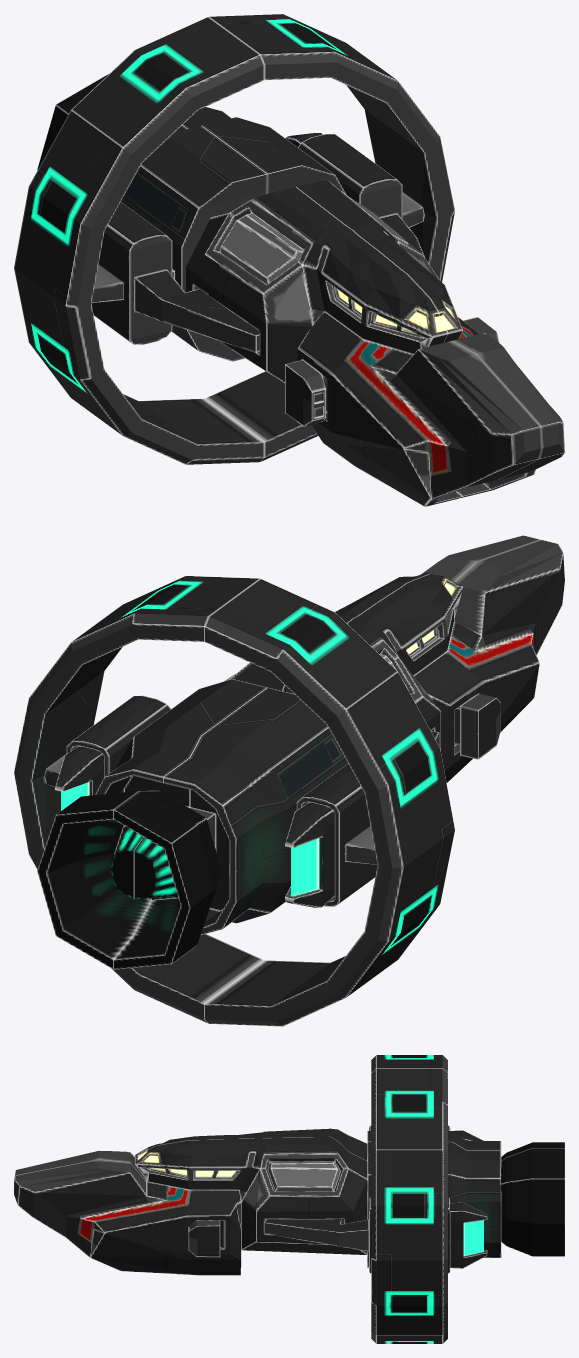
Rendered from Mat_Color_0.fbx.
3 renders of one model, top to bottom at view 1: azimuth 30°, elevation 25°; view 2: azimuth 150°, elevation 25°; view 3: azimuth 270°, elevation 25°, orthographic. The views are drawn at different scales.
Parts seen in each view (by area): view 1: OK_1; view 2: OK_1; view 3: OK_1.
Boxes of the visible parts, x1,y1,x2,y2 form: OK_1: (14,14,564,506); OK_1: (14,535,564,1026); OK_1: (14,1055,564,1343).
Size of the model in its own units: 690 by 690 by 1316.
1 material, 1 textured.
